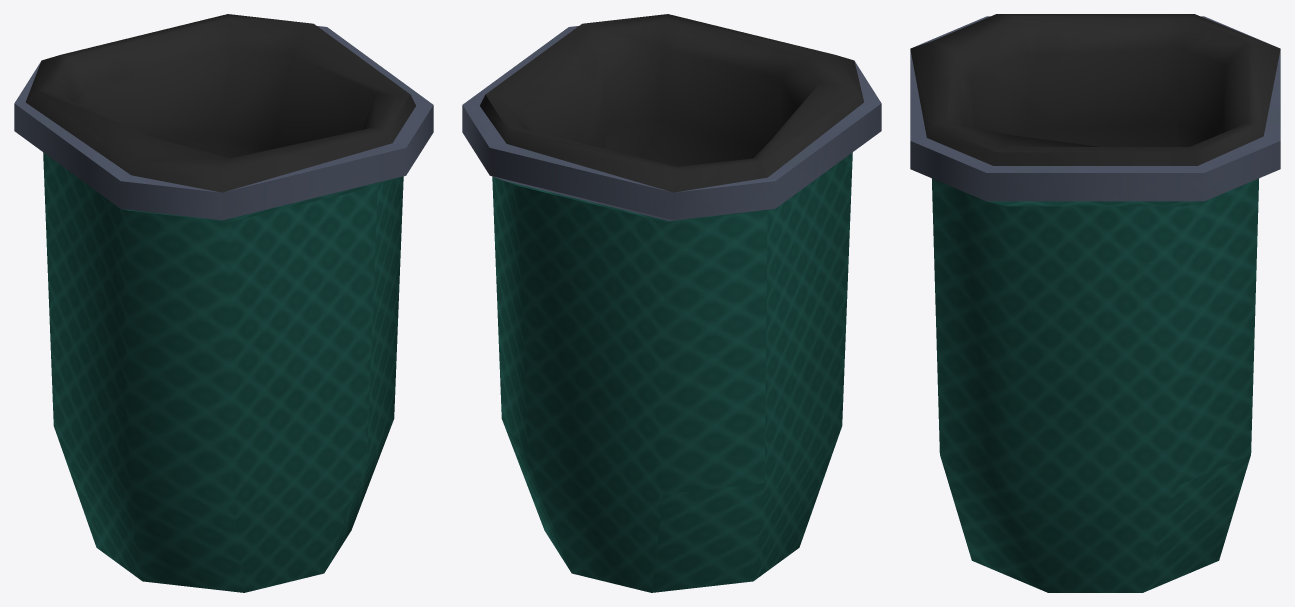
Rendered from Musorka.fbx.
3 renders of one model, left to right at view 1: azimuth 30°, elevation 25°; view 2: azimuth 150°, elevation 25°; view 3: azimuth 270°, elevation 25°, orthographic. The views are drawn at different scales.
Visible parts, largest first — view 1: Musorka; view 2: Musorka; view 3: Musorka.
Part boxes in pixels (x1,y1,x2,y2): Musorka: (14,14,433,592); Musorka: (462,14,881,592); Musorka: (910,14,1280,592).
Bounding box in the file's own units: 42.28 × 58.99 × 42.28.
